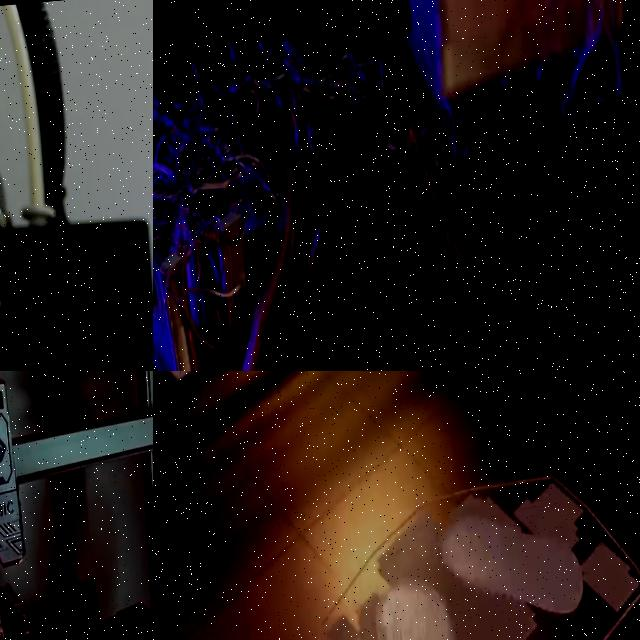spaghetti: (484, 0, 640, 209)
